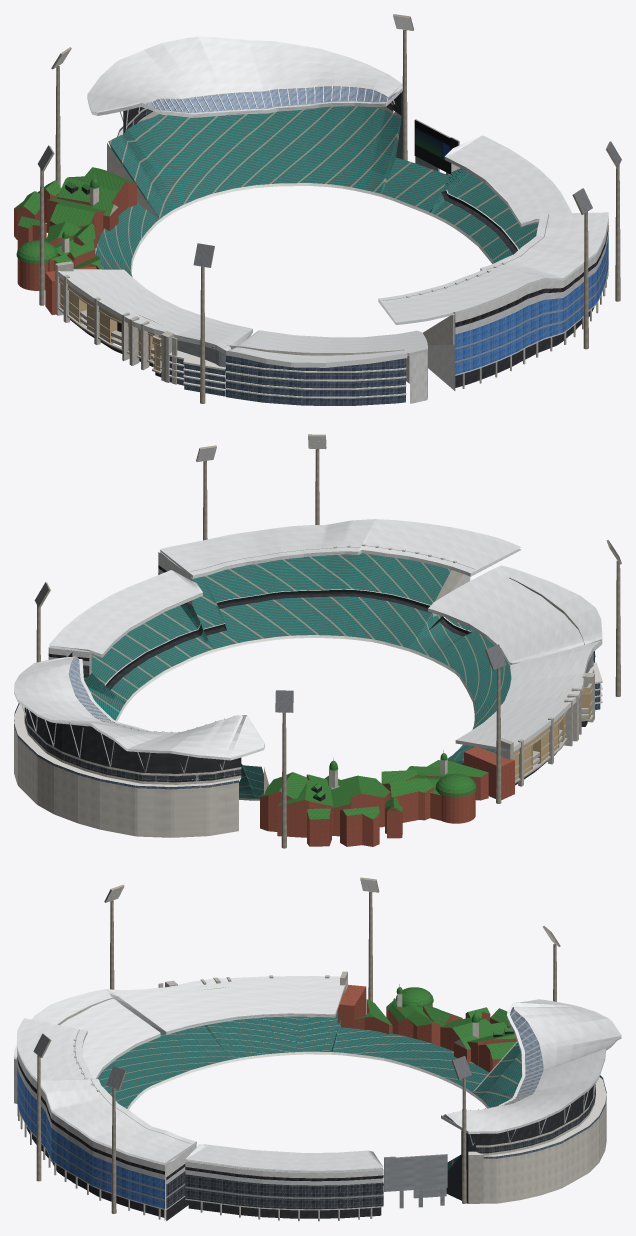
File: scg.glb
The picture shows the model from 3 angles, top to bottom: view 1: azimuth 30°, elevation 25°; view 2: azimuth 150°, elevation 25°; view 3: azimuth 270°, elevation 25°; orthographic projection. The views are drawn at different scales.
Visible parts, largest first — view 1: SCG_exterior; view 2: SCG_exterior; view 3: SCG_exterior.
Part boxes in pixels (box(x1,y1,x2,y2)): SCG_exterior: box(14, 14, 621, 405); SCG_exterior: box(14, 434, 621, 848); SCG_exterior: box(14, 877, 621, 1221).
Bounding box in the file's own units: 226 × 72.77 × 282.
32 materials, 32 textured.
